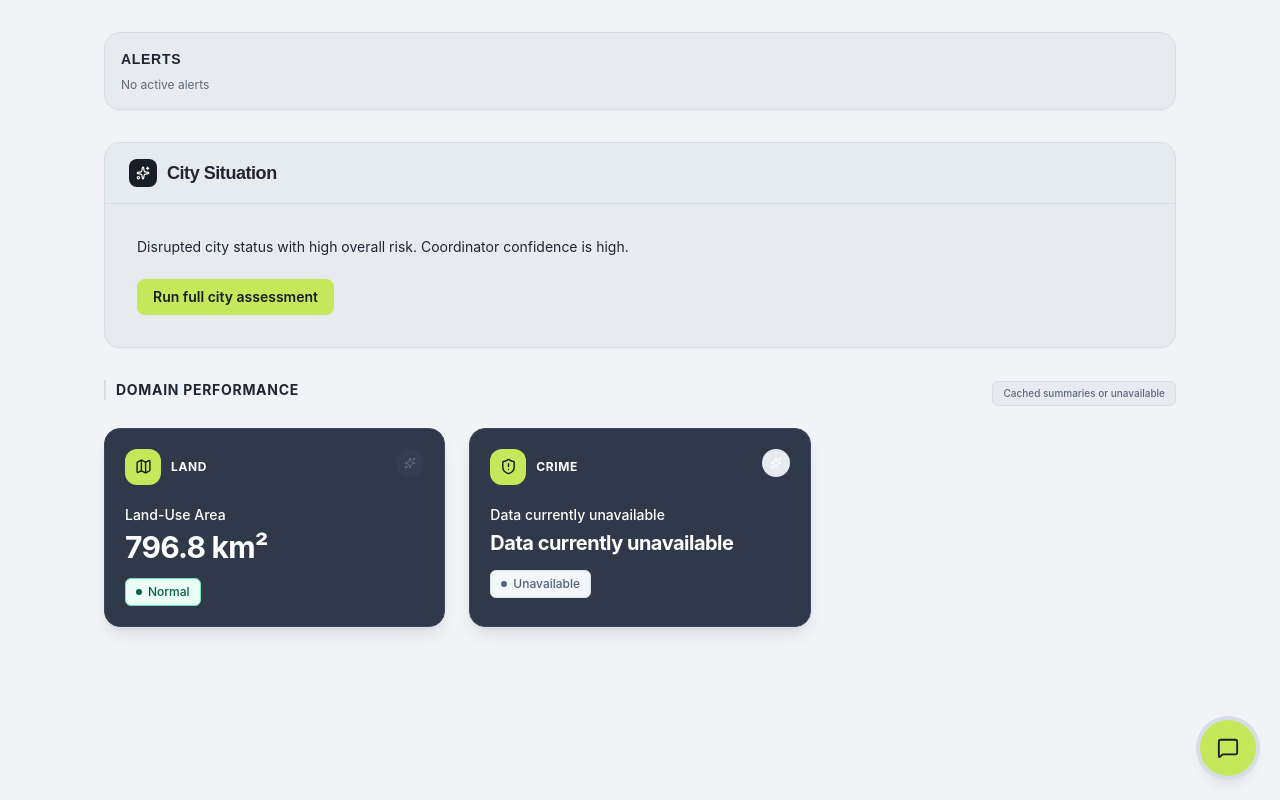
City Overview page › opens the KPI insight panel without navigating
This screenshot has width=1280, height=800.
Click the 1st button with test id "kpi-insight-button": (410, 463) top-left (396, 449), bottom-right (424, 477)
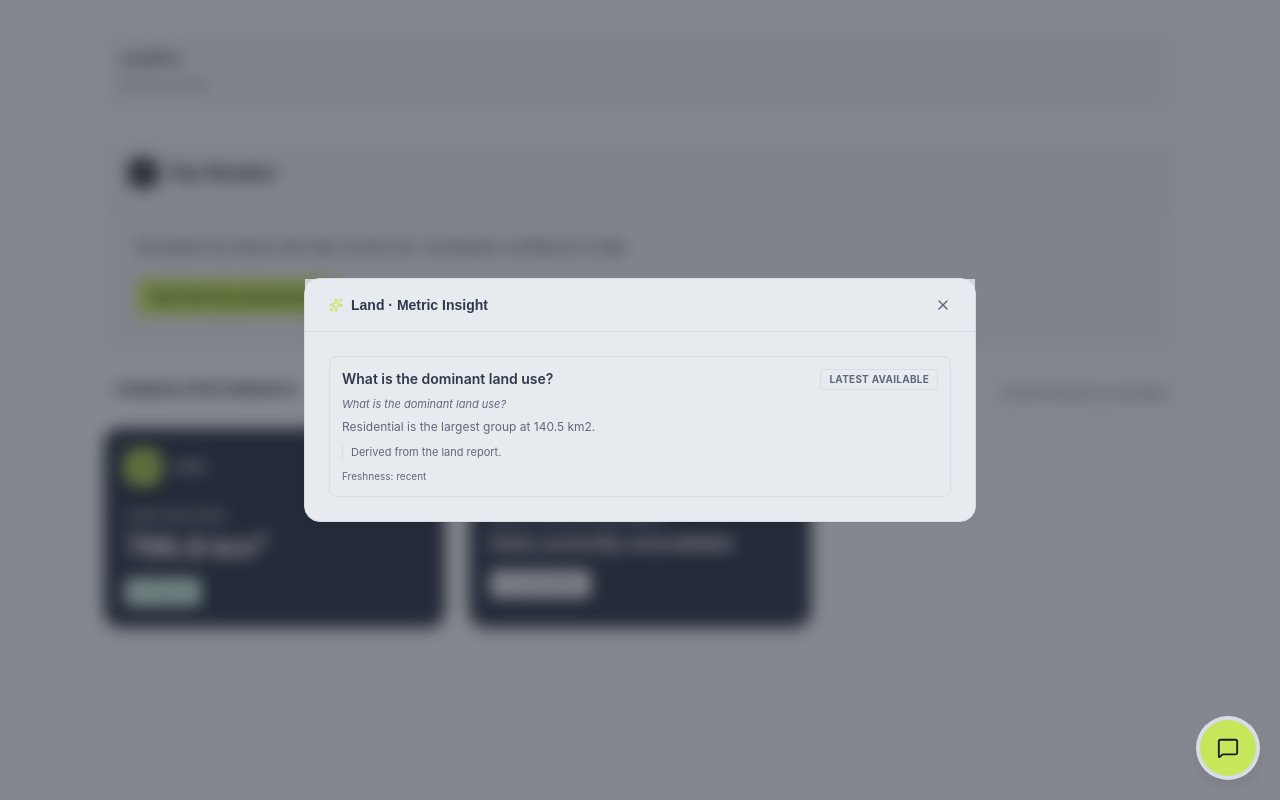
Now the dialog with test id "kpi-insight-panel" is shown, box top-left (304, 278), bottom-right (976, 522)
Now the text with test id "kpi-insight-answer" shows "Residential is the largest group", box top-left (342, 419), bottom-right (595, 434)
